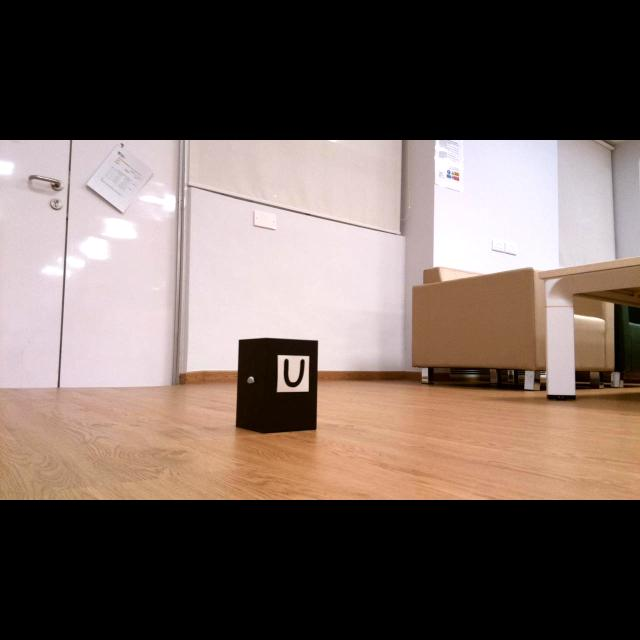U: (284, 359, 305, 387)
